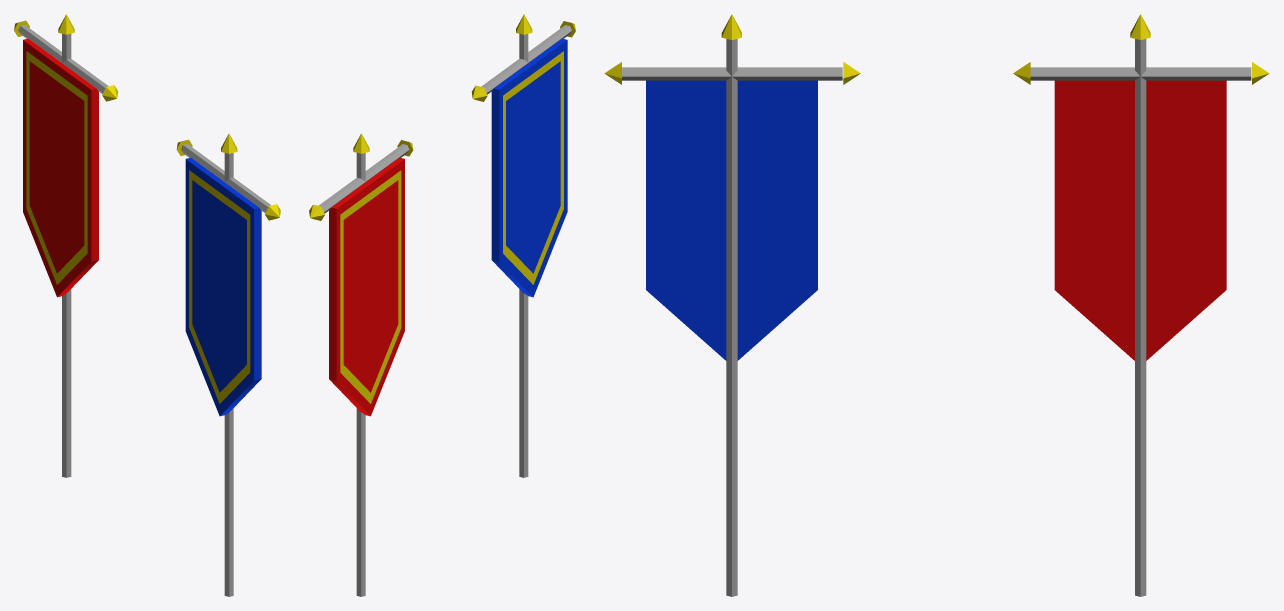
The model's file is Banners.fbx.
3 renders of one model, left to right at view 1: azimuth 30°, elevation 25°; view 2: azimuth 150°, elevation 25°; view 3: azimuth 270°, elevation 25°, orthographic. The views are drawn at different scales.
Parts seen in each view (by area): view 1: pCube1 (×2), pCylinder1 (×2), pCylinder2 (×2); view 2: pCube1 (×2), pCylinder1 (×2), pCylinder2 (×2); view 3: pCube1 (×2), pCylinder1 (×2), pCylinder2 (×2).
Part boxes in pixels (bbox=[...]): pCube1 (×2): bbox=[23, 38, 261, 416]; pCylinder1 (×2): bbox=[62, 34, 233, 596]; pCylinder2 (×2): bbox=[18, 25, 270, 212]; pCube1 (×2): bbox=[329, 38, 567, 416]; pCylinder1 (×2): bbox=[356, 34, 528, 596]; pCylinder2 (×2): bbox=[318, 25, 571, 213]; pCube1 (×2): bbox=[646, 80, 1226, 360]; pCylinder1 (×2): bbox=[726, 39, 1146, 596]; pCylinder2 (×2): bbox=[622, 67, 1251, 80].
Bounding box in the file's own units: 0.3122 × 7.88 × 8.2.
